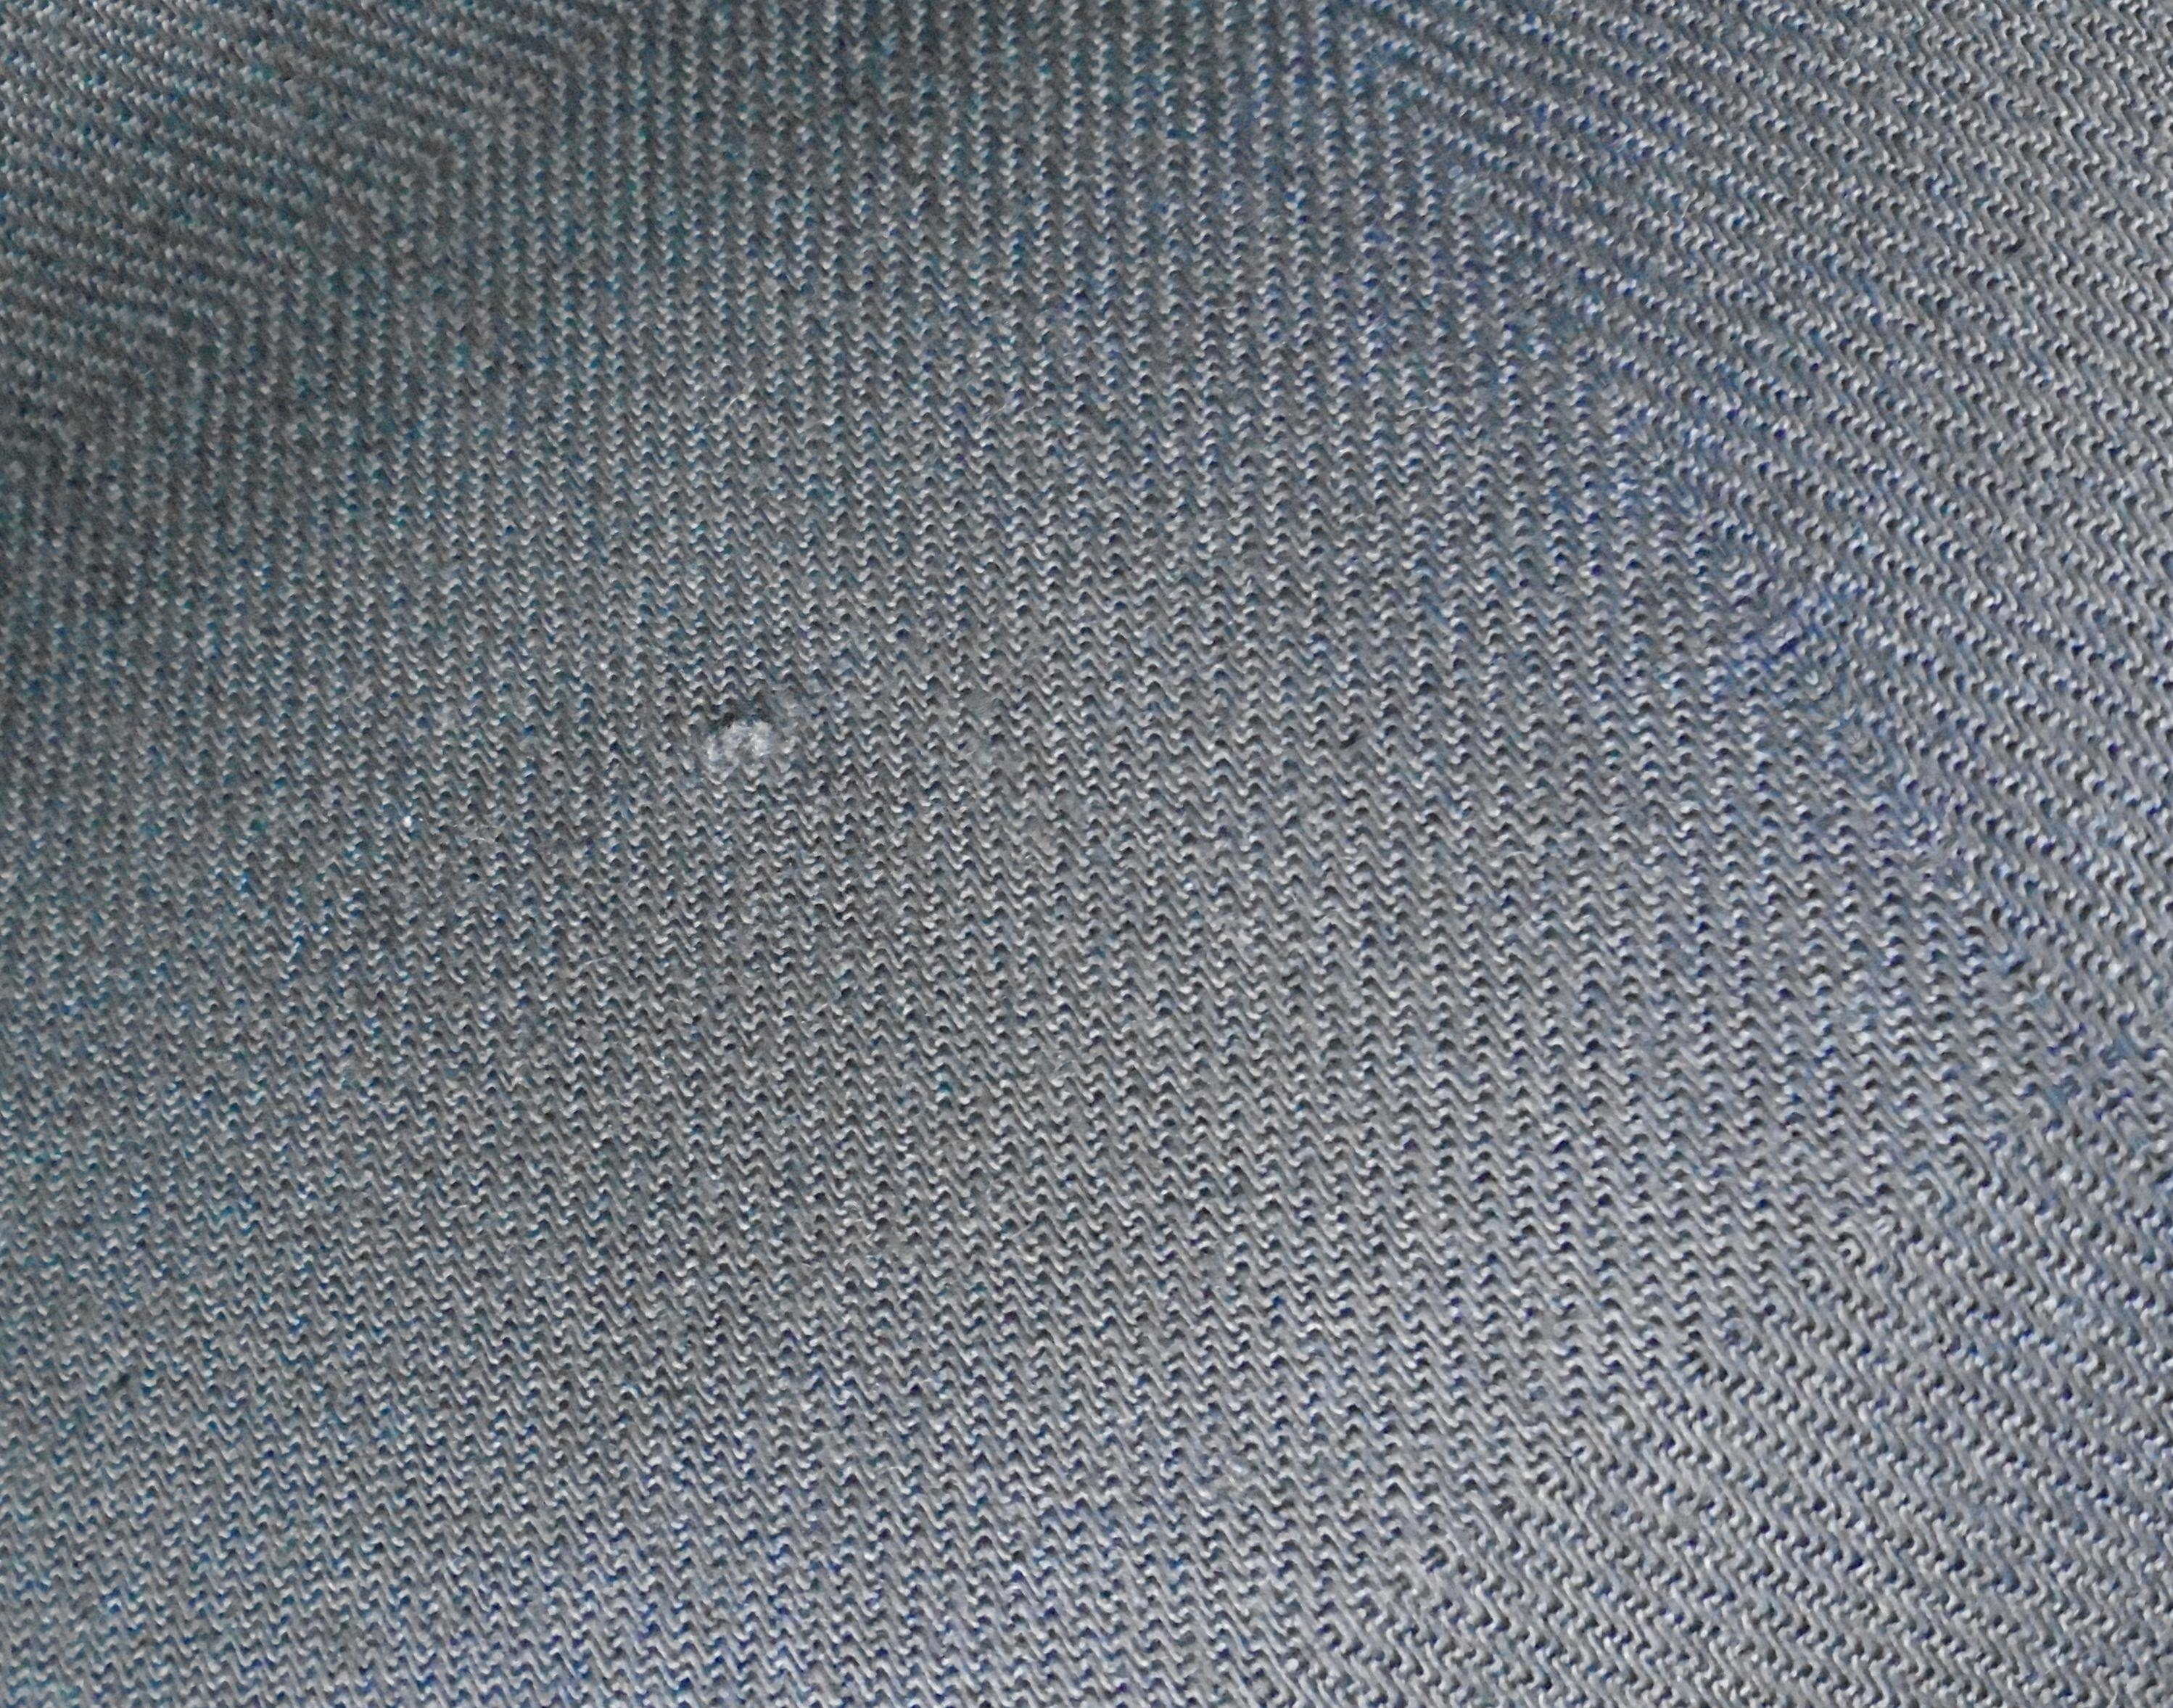knot: (649, 674, 810, 792)
